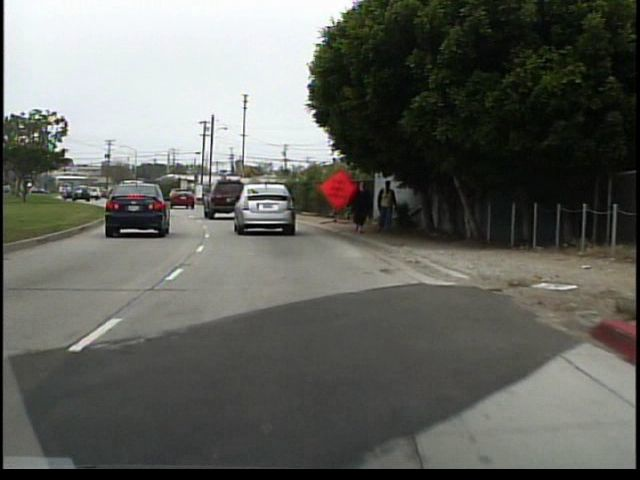person: (342, 176, 375, 239), (374, 179, 399, 239)
